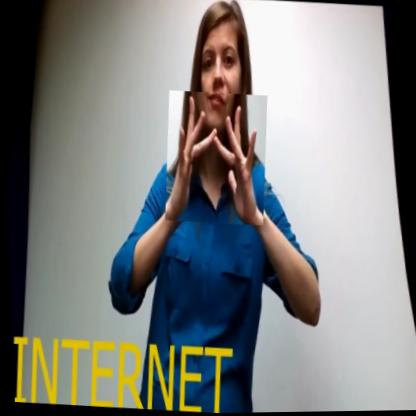Internet: (160, 89, 271, 228)
